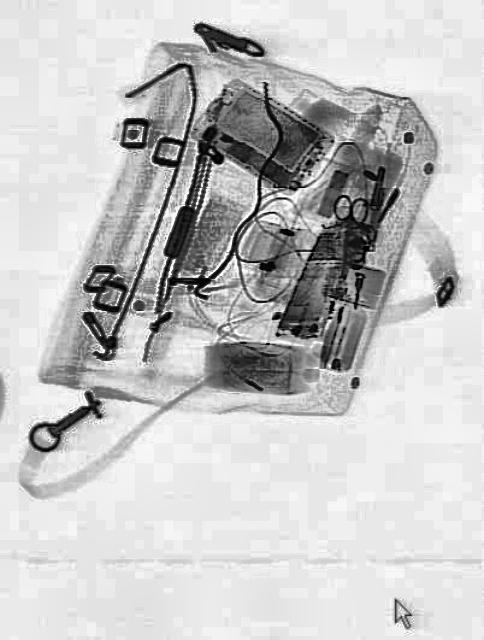Scissors: (323, 192, 369, 278)
